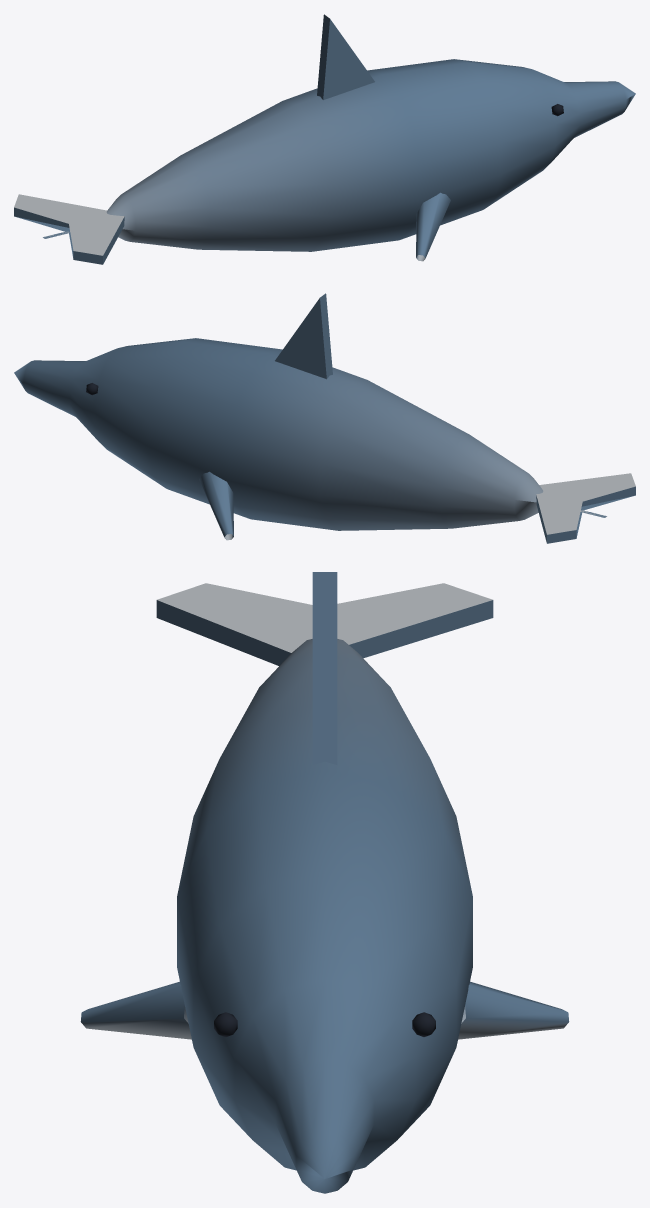
File: sea_dolphin.glb
3 views of the same model, one above another, from view 1: azimuth 30°, elevation 25°; view 2: azimuth 150°, elevation 25°; view 3: azimuth 270°, elevation 25° (orthographic). The views are drawn at different scales.
Parts seen in each view (by area): view 1: sea_dolphin_main; view 2: sea_dolphin_main; view 3: sea_dolphin_main.
Boxes of the visible parts, box(x1,y1,x2,y2) form: sea_dolphin_main: box(14, 14, 635, 264); sea_dolphin_main: box(14, 293, 635, 543); sea_dolphin_main: box(80, 572, 569, 1193).
Size of the model in its own units: 1.38 by 0.52 by 0.4928.
